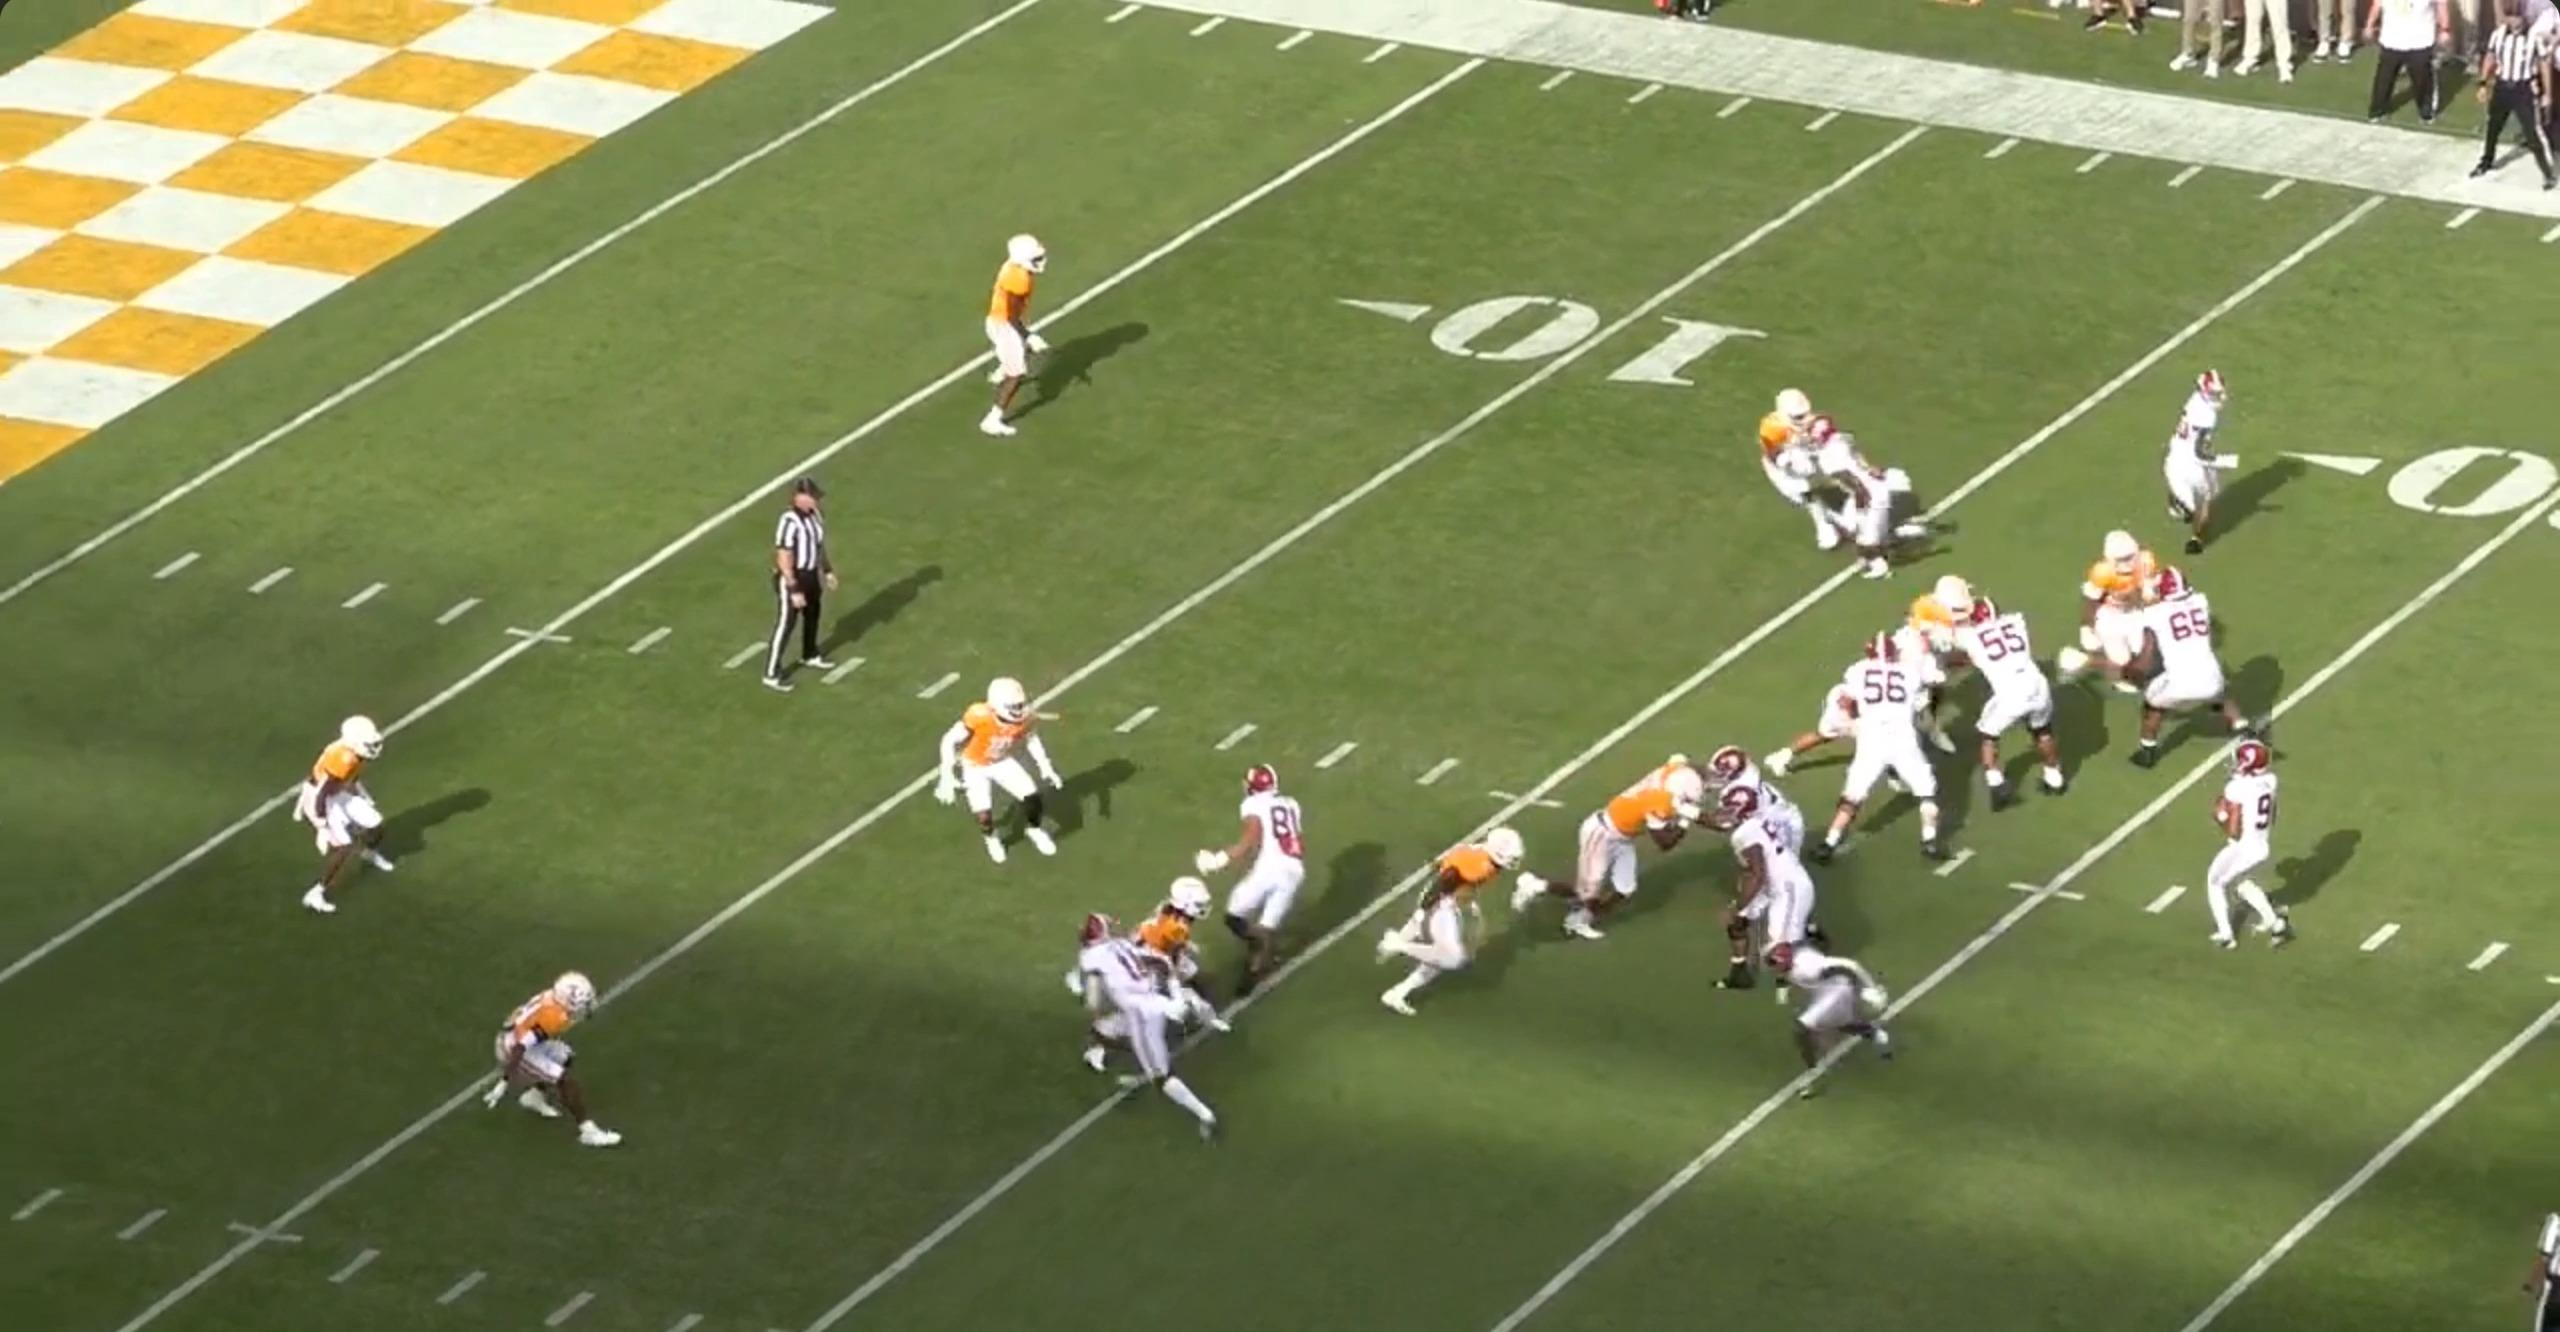defense: (1380, 823, 1542, 1029), (1764, 613, 1956, 777), (1554, 748, 1705, 946), (486, 971, 626, 1156), (935, 679, 1063, 870), (293, 709, 398, 919), (972, 222, 1067, 443), (2055, 530, 2160, 691), (1751, 381, 1849, 545), (1123, 875, 1216, 978), (1896, 577, 1979, 645)
oline: (1710, 792, 1890, 1010), (1822, 638, 1956, 865), (1947, 604, 2074, 814), (2133, 581, 2267, 773), (1700, 743, 1813, 860)
qb: (2199, 740, 2296, 955)
ref: (2452, 12, 2552, 203), (752, 484, 836, 701), (2526, 1190, 2560, 1327)
skill: (1063, 912, 1228, 1144), (1211, 755, 1322, 983), (1805, 413, 1942, 581), (1766, 924, 1905, 1085), (2166, 366, 2252, 555)
